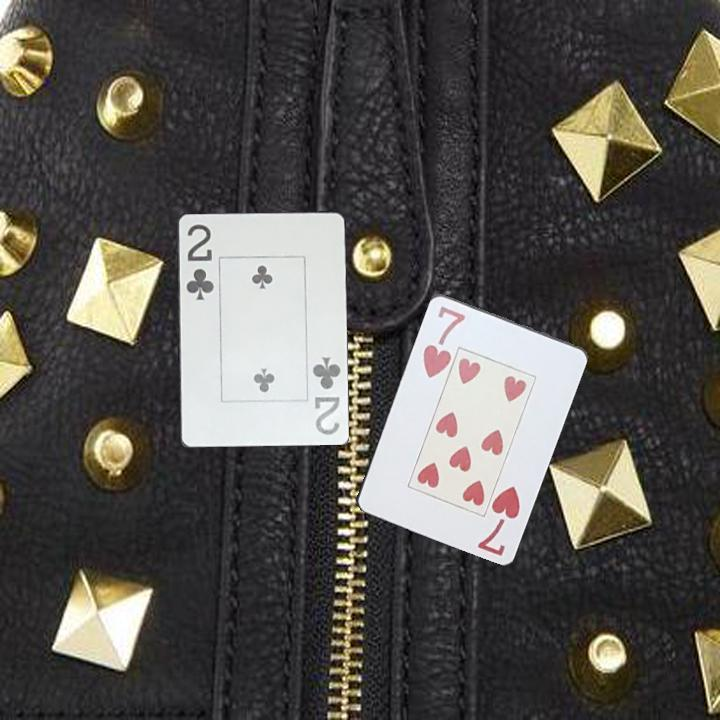2c: (309, 353, 343, 438), (183, 220, 217, 303)
7h: (419, 302, 468, 381), (474, 482, 523, 559)
